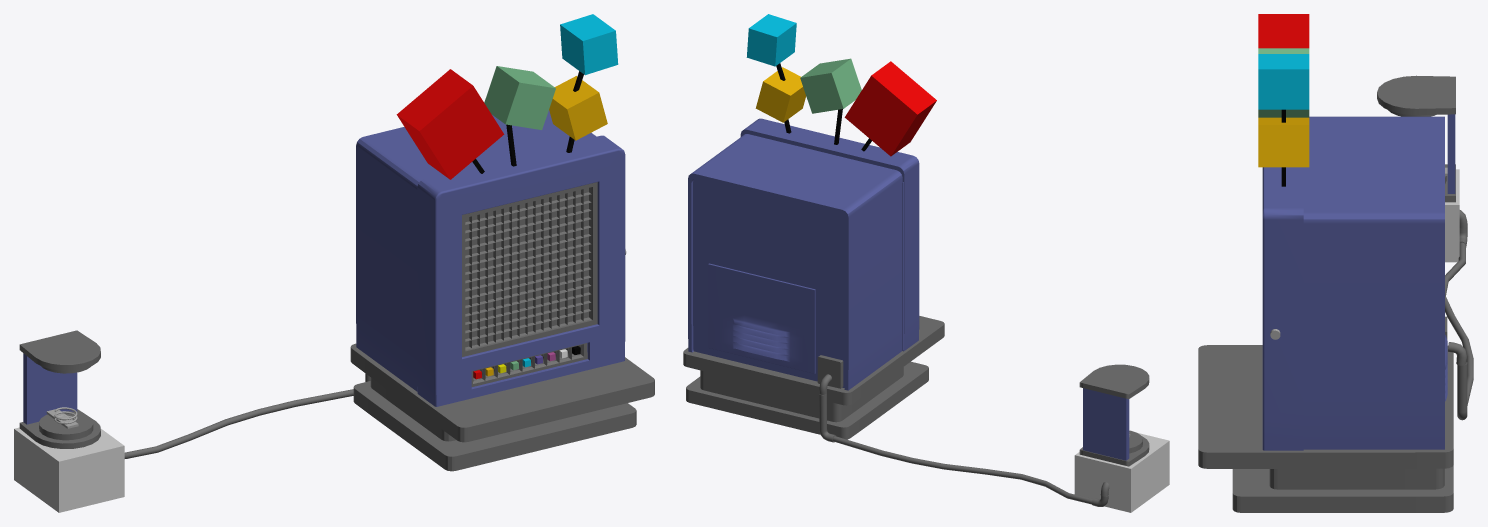
File: PerlerMachine.fbx
3 views of the same model, side by side, from view 1: azimuth 30°, elevation 25°; view 2: azimuth 150°, elevation 25°; view 3: azimuth 270°, elevation 25° (orthographic). The views are drawn at different scales.
Visible parts, largest first — view 1: PerlerMachine, BatterySlot, Cable; view 2: PerlerMachine, BatterySlot, Cable; view 3: PerlerMachine, BatterySlot, Cable.
Boxes of the visible parts, box(x1,y1,x2,y2) form: PerlerMachine: box(350, 14, 654, 471); BatterySlot: box(14, 330, 124, 512); Cable: box(124, 373, 370, 458); PerlerMachine: box(683, 14, 944, 439); BatterySlot: box(1074, 364, 1169, 512); Cable: box(819, 374, 1109, 506); PerlerMachine: box(1198, 14, 1453, 512); BatterySlot: box(1377, 75, 1459, 262); Cable: box(1445, 210, 1473, 420).
Bounding box in the file's own units: 376 × 266 × 152.
